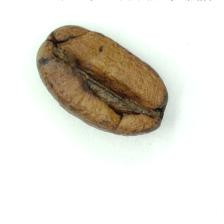NG: (40, 46, 154, 128)
